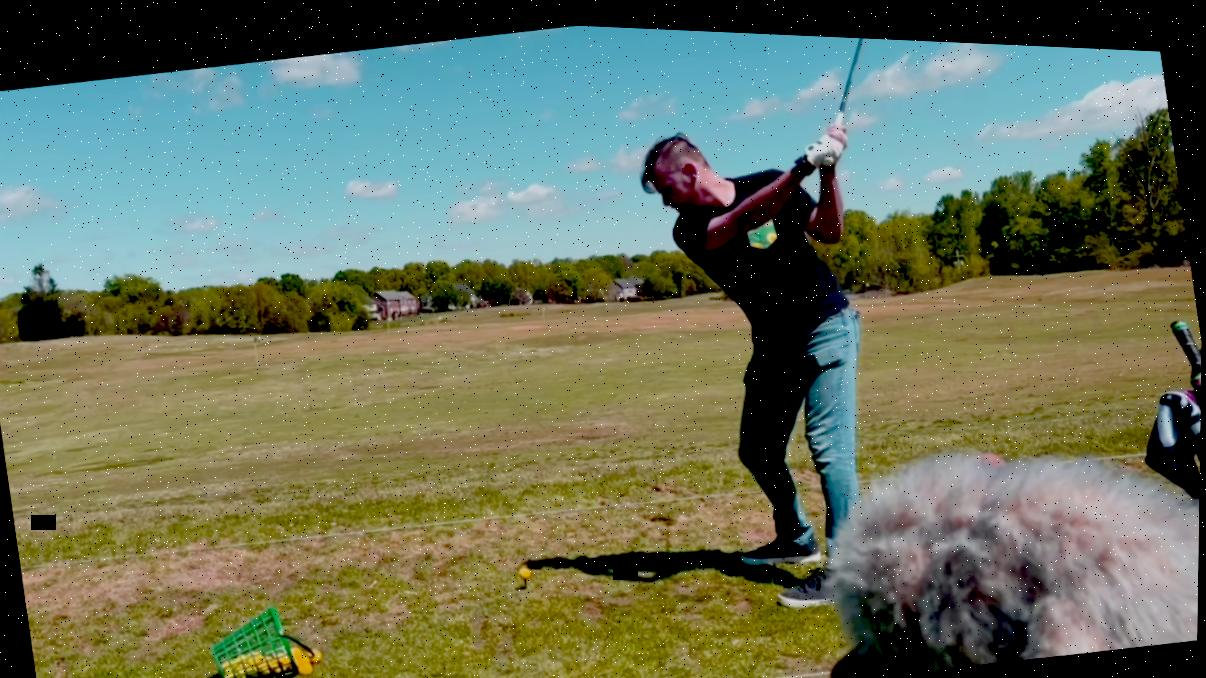GolfBall: (516, 559, 535, 578)
